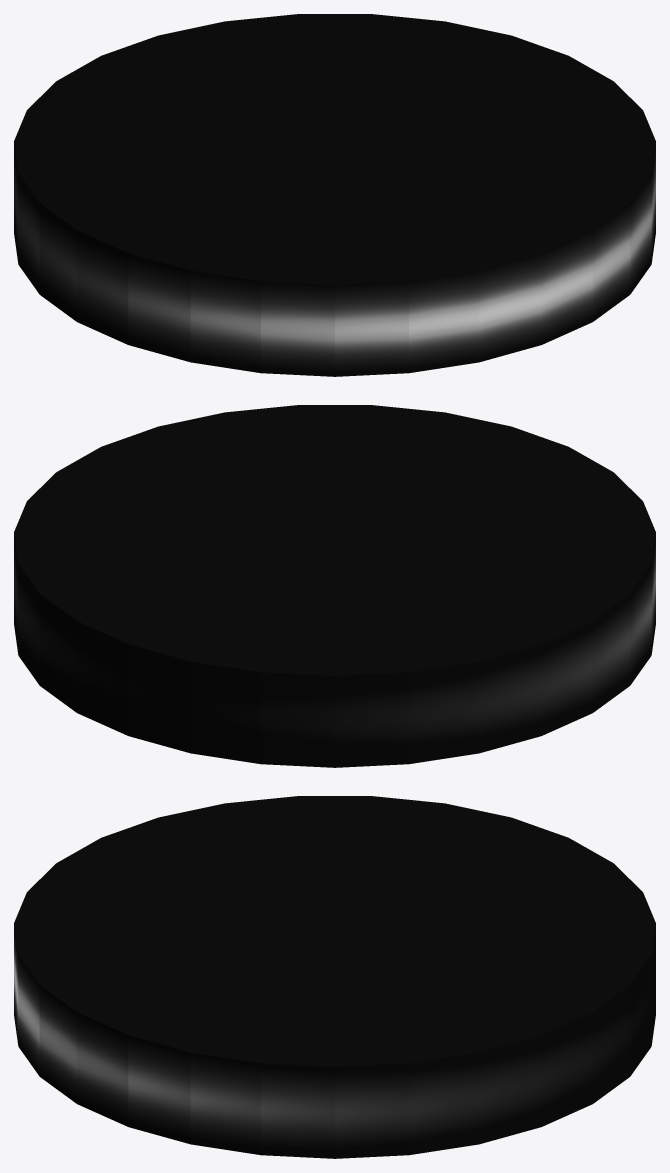
File: 0104_Mesh_juzidegenggui_suishen.glb
3 views of the same model, one above another, from view 1: azimuth 30°, elevation 25°; view 2: azimuth 150°, elevation 25°; view 3: azimuth 270°, elevation 25° (orthographic).
Bounding box in the file's own units: 2.2 × 0.3476 × 2.2.
Materials: 1 (1 with a texture image).
